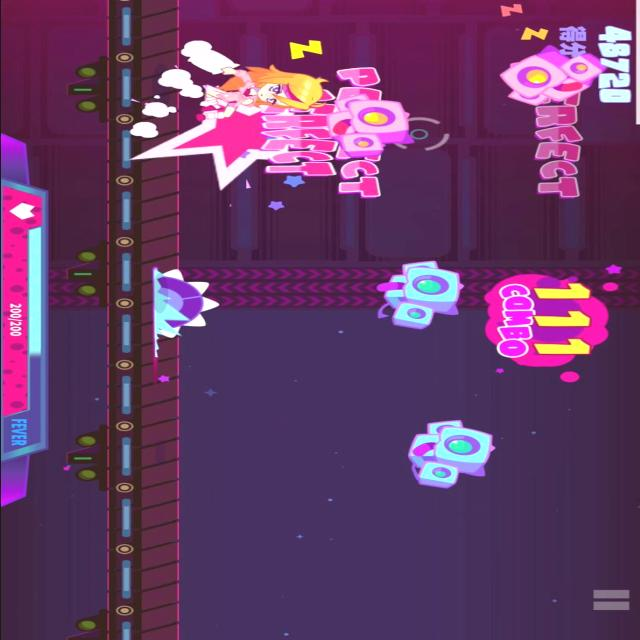ci: (147, 266, 220, 385)
jiqi: (395, 414, 507, 494), (370, 256, 470, 332), (504, 46, 609, 108), (324, 93, 418, 159)
